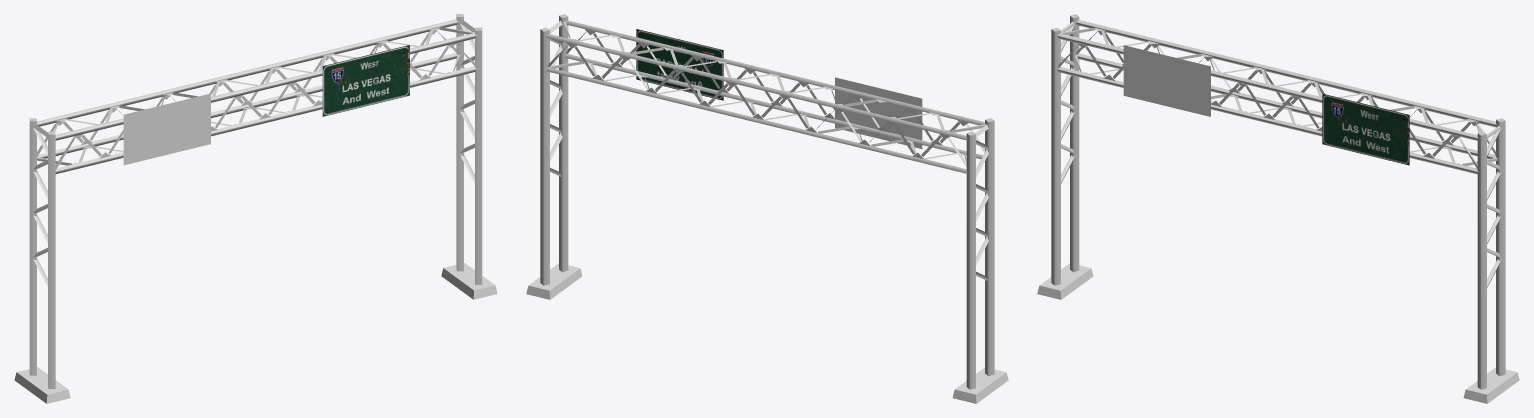
File: Roadsign_big_LOD2.fbx
The picture shows the model from 3 angles, left to right: view 1: azimuth 30°, elevation 25°; view 2: azimuth 150°, elevation 25°; view 3: azimuth 330°, elevation 25°; orthographic projection.
Visible parts, largest first — view 1: polySurface2016; view 2: polySurface2016; view 3: polySurface2016.
Boxes of the visible parts, x1,y1,x2,y2 form: polySurface2016: [14, 14, 497, 403]; polySurface2016: [526, 14, 1008, 403]; polySurface2016: [1037, 14, 1519, 403].
Size of the model in its own units: 16.9 by 9.52 by 2.1.
